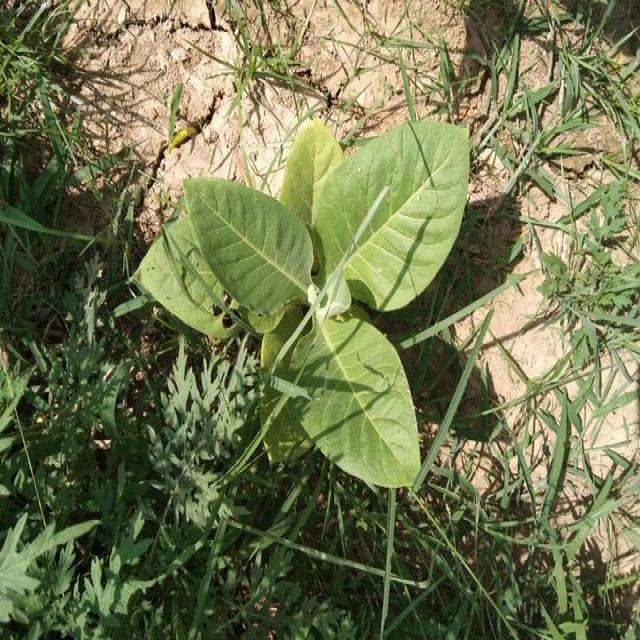crop: (128, 116, 471, 487)
